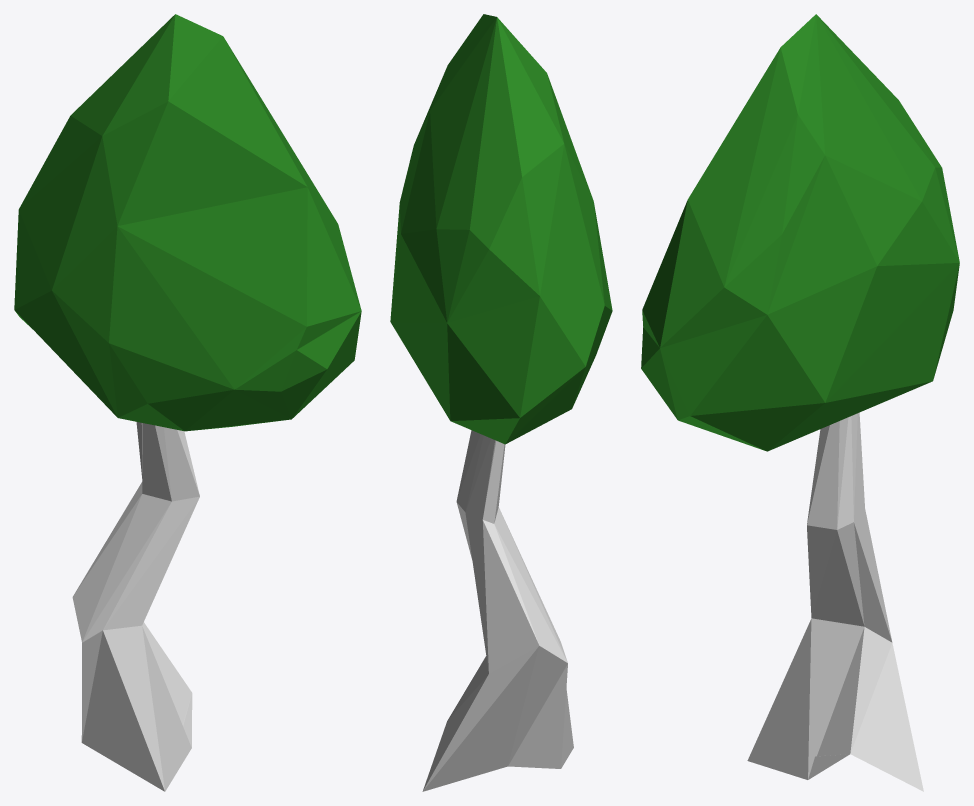
The model's file is tree2.FBX.
The picture shows the model from 3 angles, left to right: view 1: azimuth 30°, elevation 25°; view 2: azimuth 150°, elevation 25°; view 3: azimuth 270°, elevation 25°; orthographic projection. The views are drawn at different scales.
Visible parts, largest first — view 1: Box019, Cylinder007; view 2: Box019, Cylinder007; view 3: Box019, Cylinder007.
Boxes of the visible parts, x1,y1,x2,y2 form: Box019: (14,14,361,431); Cylinder007: (72,422,199,791); Box019: (390,14,612,444); Cylinder007: (422,430,573,791); Box019: (641,14,959,451); Cylinder007: (747,412,923,791).
Bounding box in the file's own units: 49.6 × 143 × 53.88.
